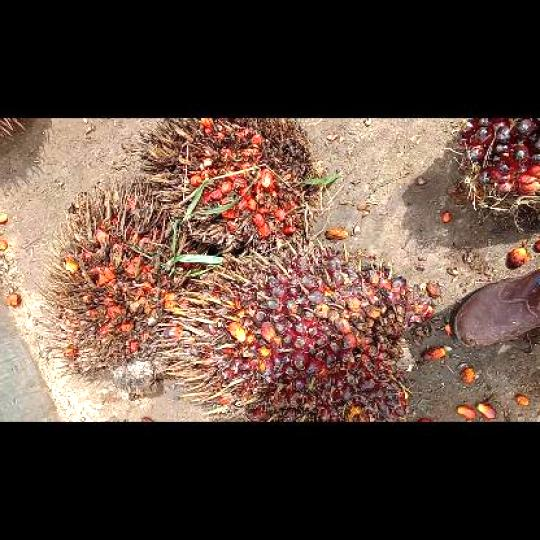masak: (150, 244, 420, 421)
terlalu masak: (31, 177, 187, 397), (121, 119, 323, 252)
